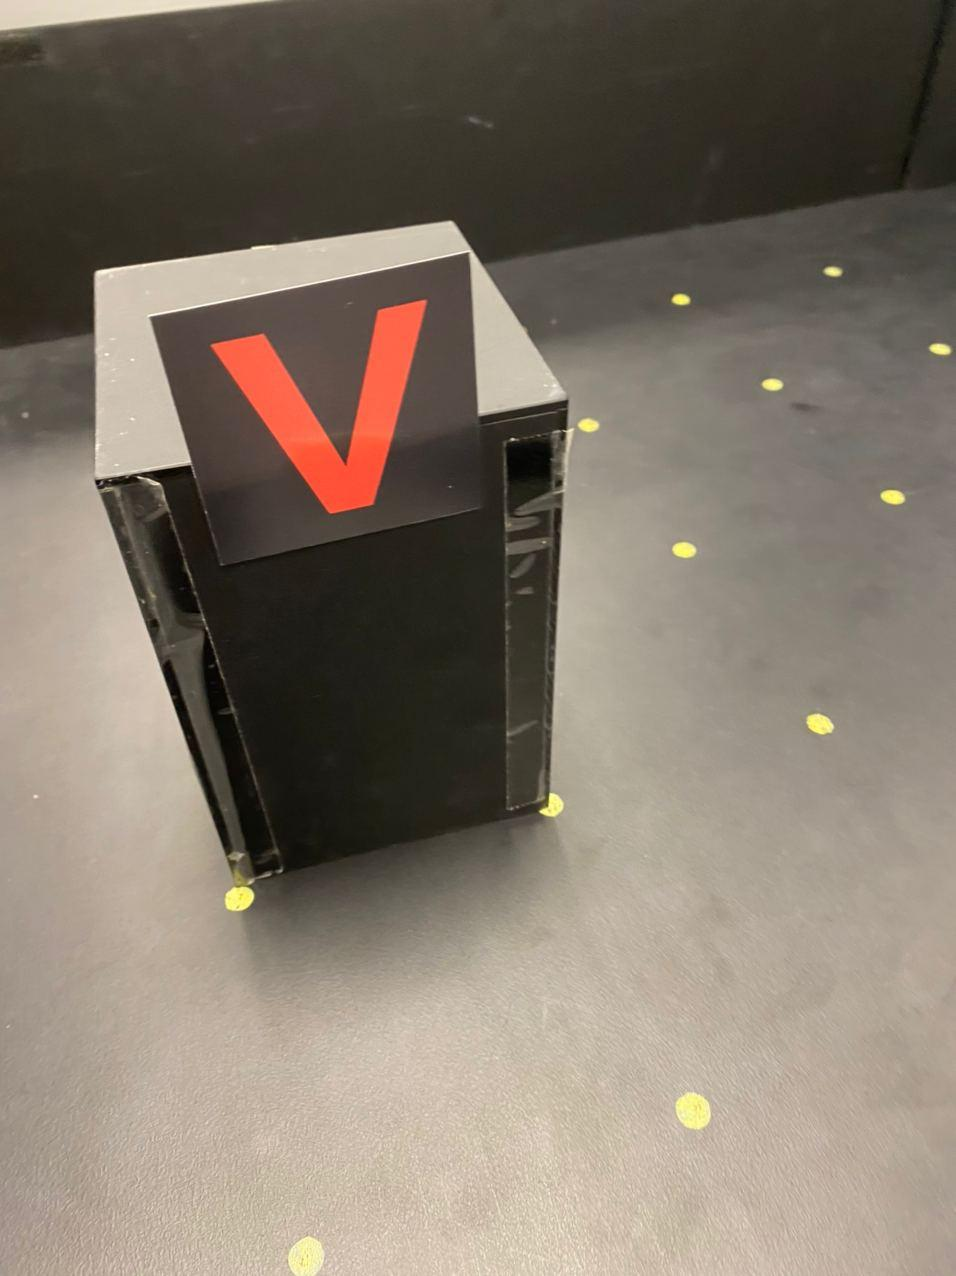v: (200, 298, 453, 522)
